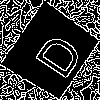D: (25, 26, 85, 81)
